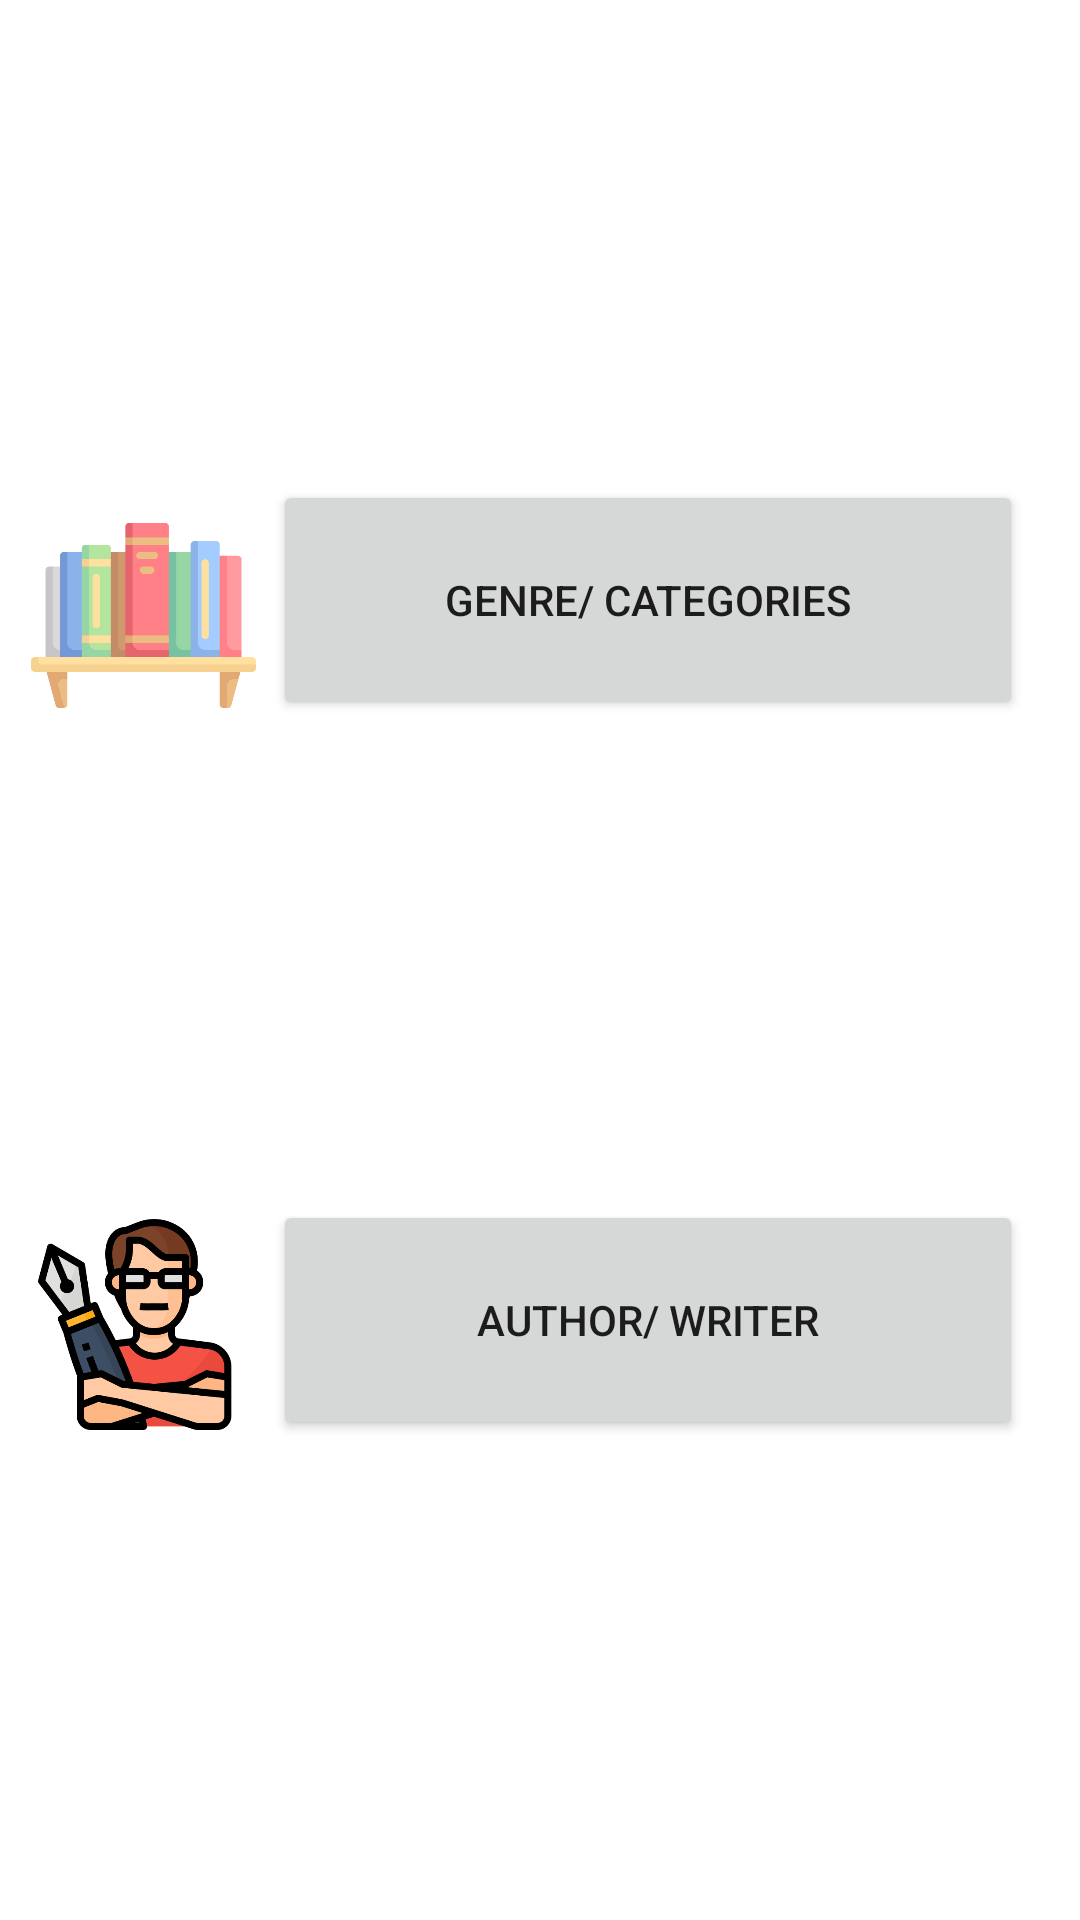

Where to tap for icons on this 1080x1920 app screen, as (x,y):
bookshelf: (143,615)
